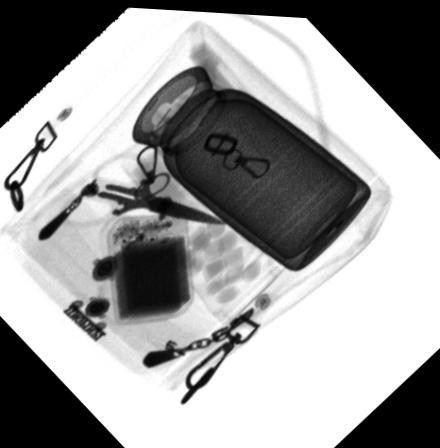Powerbank: (107, 206, 194, 320)
Scissors: (56, 151, 226, 231)
